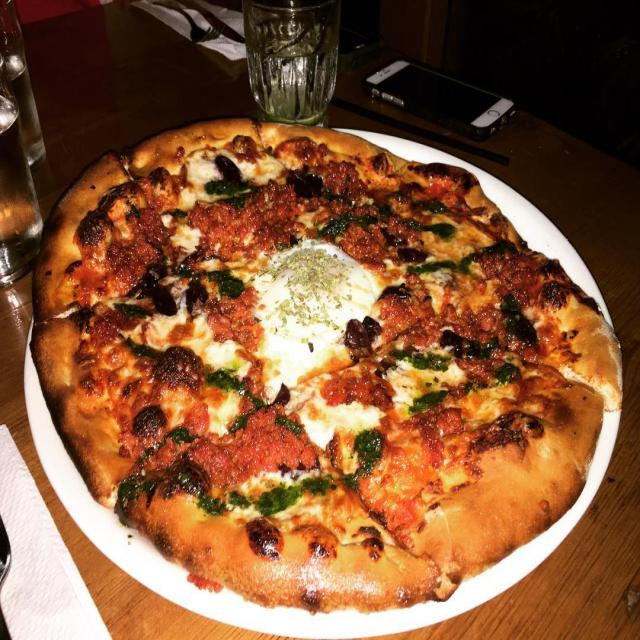black_olives: (342, 320, 372, 356)
peppers: (146, 284, 183, 316), (182, 279, 210, 315), (286, 165, 313, 200), (215, 150, 239, 187), (268, 383, 289, 409), (362, 311, 379, 341), (306, 168, 324, 195)
pizza: (28, 119, 622, 619)
